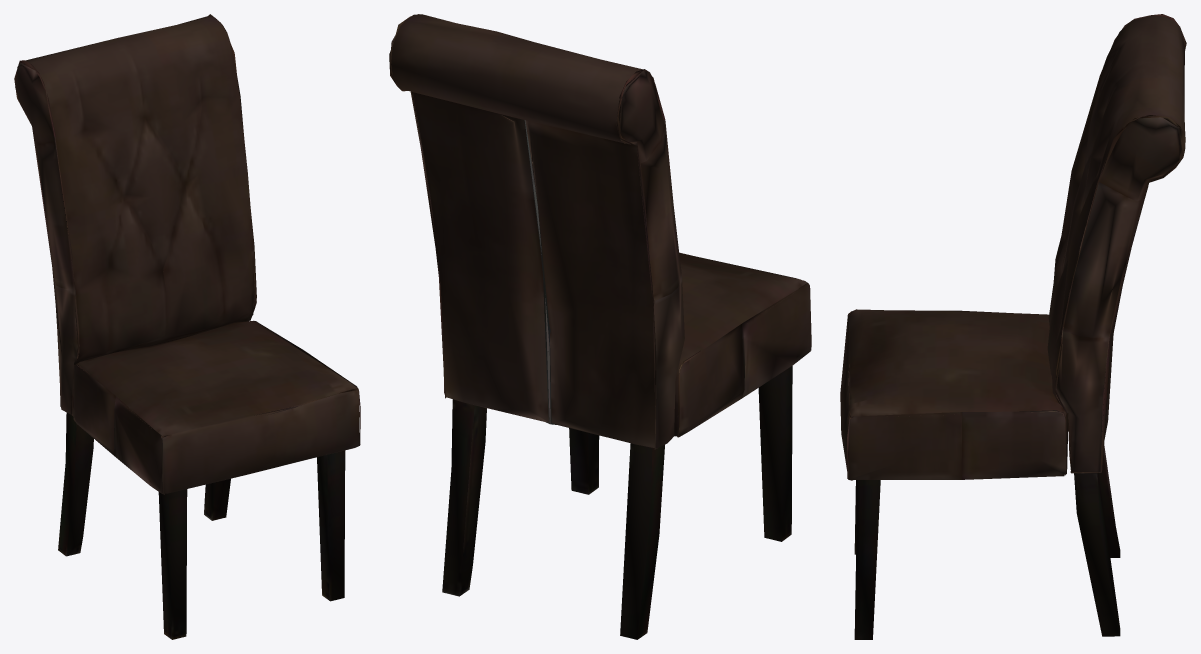
Rendered from chairWood_lo.glb.
3 renders of one model, left to right at view 1: azimuth 30°, elevation 25°; view 2: azimuth 150°, elevation 25°; view 3: azimuth 270°, elevation 25°, orthographic. The views are drawn at different scales.
Visible parts, largest first — view 1: dining_chair_02; view 2: dining_chair_02; view 3: dining_chair_02.
Boxes of the visible parts, box(x1,y1,x2,y2) form: dining_chair_02: box(14, 14, 360, 639); dining_chair_02: box(389, 14, 811, 639); dining_chair_02: box(840, 14, 1186, 639).
Bounding box in the file's own units: 0.4314 × 0.9713 × 0.5765.
Materials: 1 (1 with a texture image).
